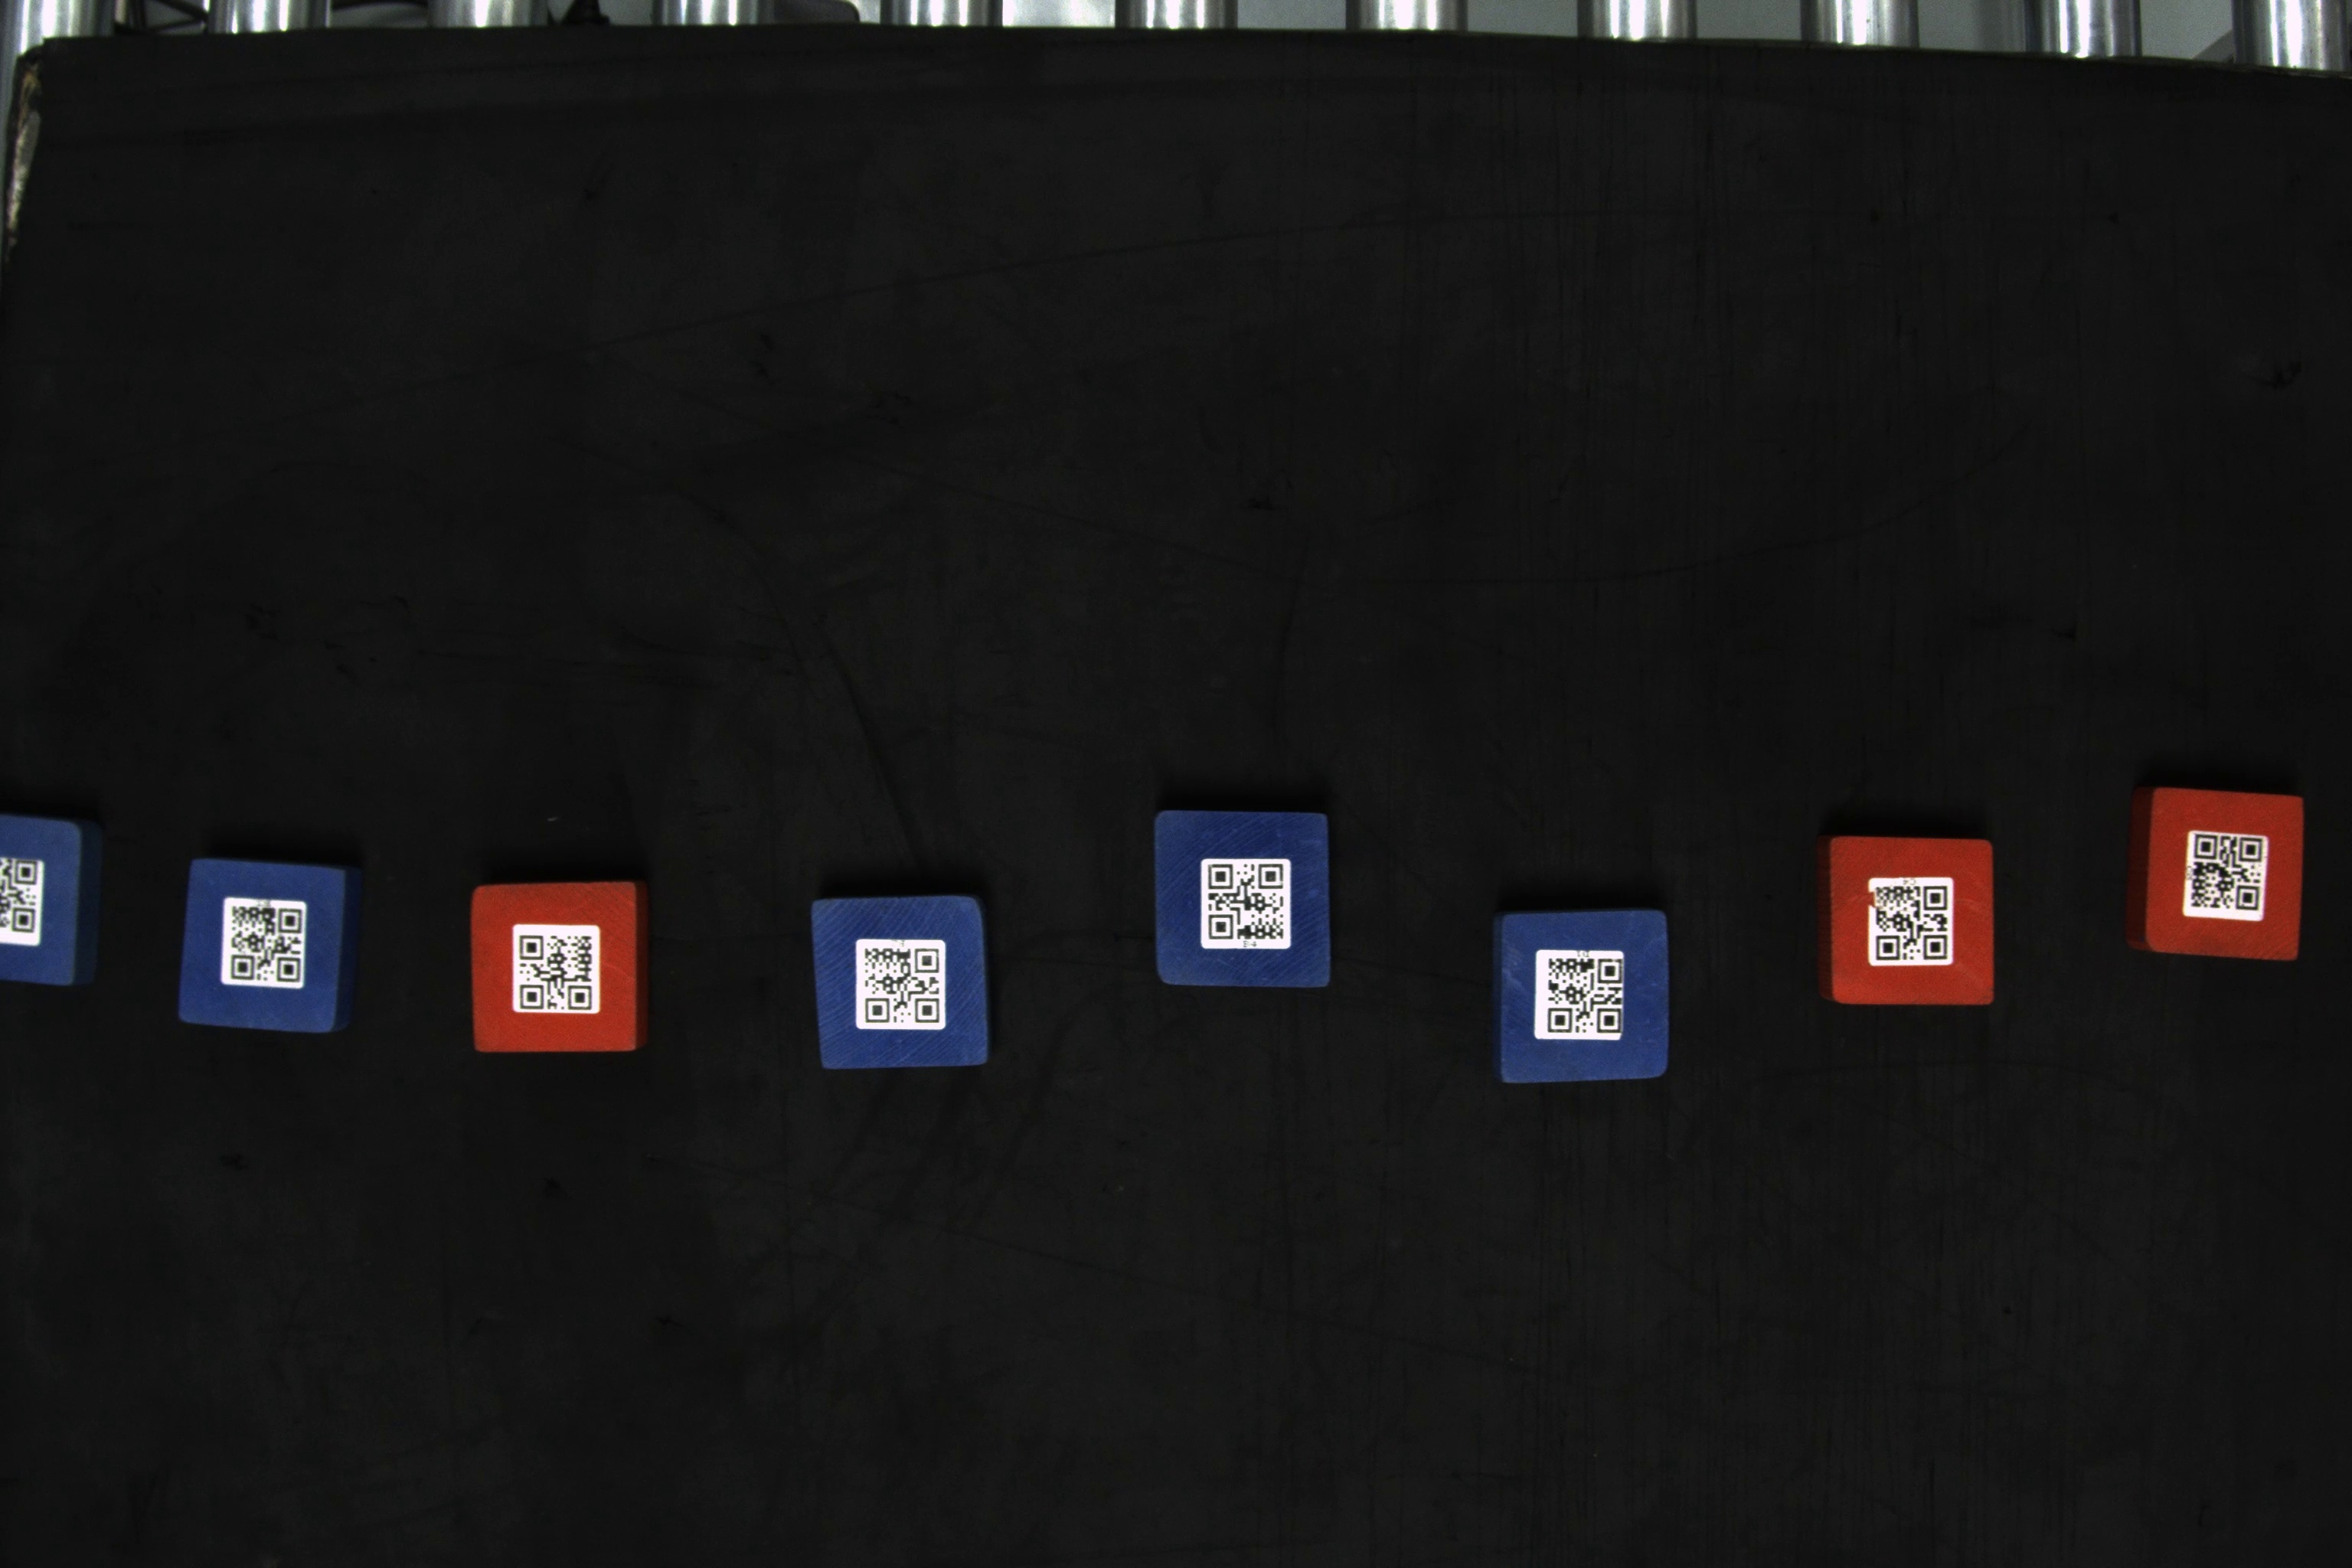wood: (173, 849, 364, 1043), (1151, 805, 1340, 994), (1815, 829, 2004, 1011), (1487, 903, 1678, 1083), (465, 877, 649, 1062), (805, 894, 992, 1073), (2123, 787, 2306, 964), (2, 805, 107, 992)
